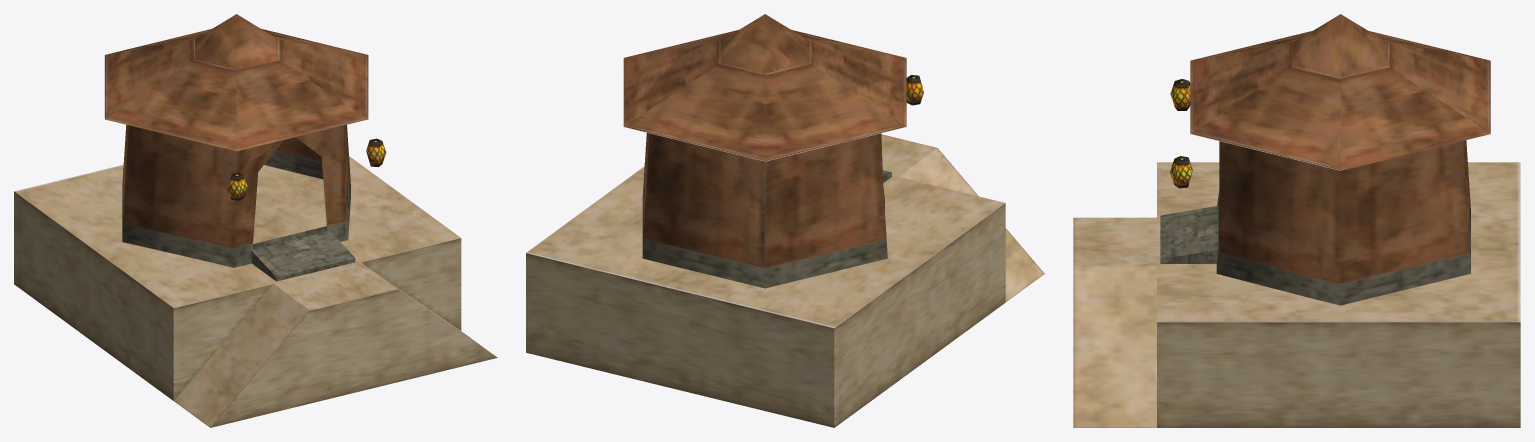
The model's file is ply_tato_merchant_tent_s01_r0_mesh_l3.fbx.
3 renders of one model, left to right at view 1: azimuth 30°, elevation 25°; view 2: azimuth 150°, elevation 25°; view 3: azimuth 270°, elevation 25°, orthographic. The views are drawn at different scales.
Visible parts, largest first — view 1: mesh_node; view 2: mesh_node; view 3: mesh_node.
Part boxes in pixels (box(x1,y1,x2,y2)): mesh_node: box(14, 14, 497, 427); mesh_node: box(526, 14, 1044, 427); mesh_node: box(1073, 14, 1520, 427).
Bounding box in the file's own units: 9.05 × 8.81 × 10.7.
Materials: 1 (1 with a texture image).
